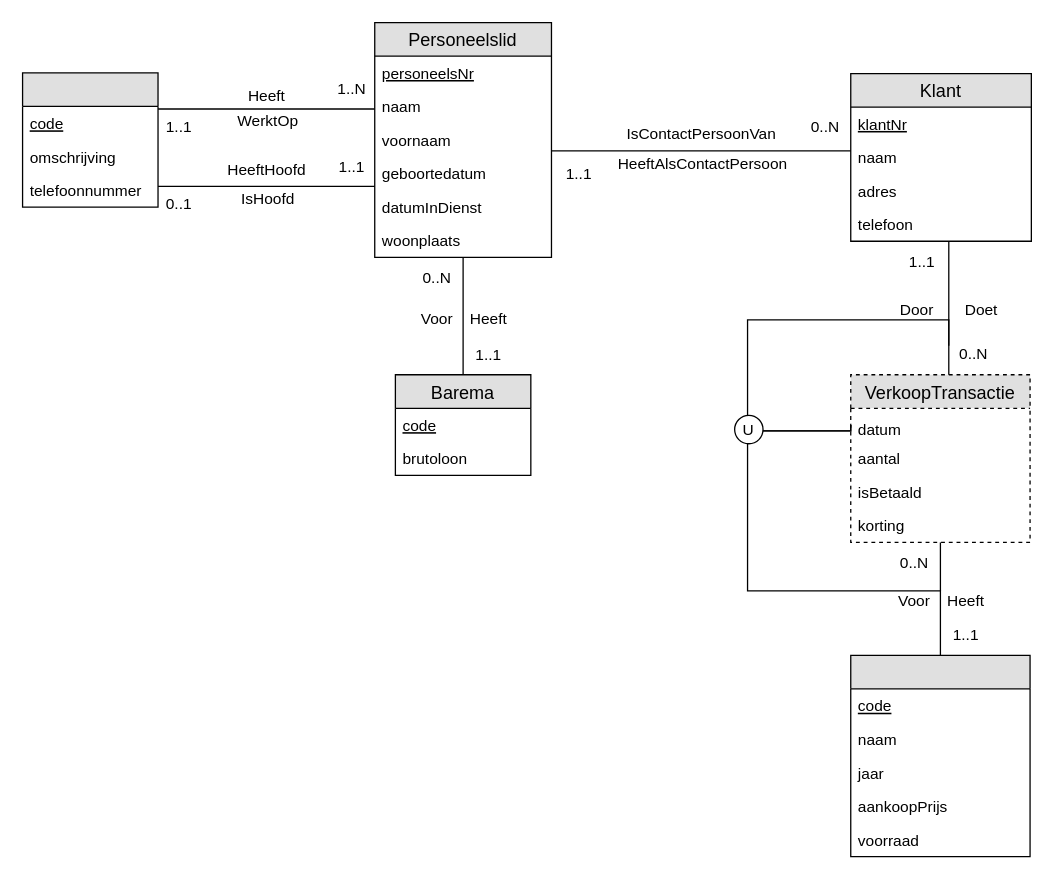
Some shapes in this 1054 by 882 pixel diagram are drawn without their labels. The shapes that lost their labels are listed below. From the top down, each one's box as (x1, y1, x2, y2) in pixels, then its label:
(21, 72, 158, 207): Afdeling
(849, 654, 1030, 857): Product
